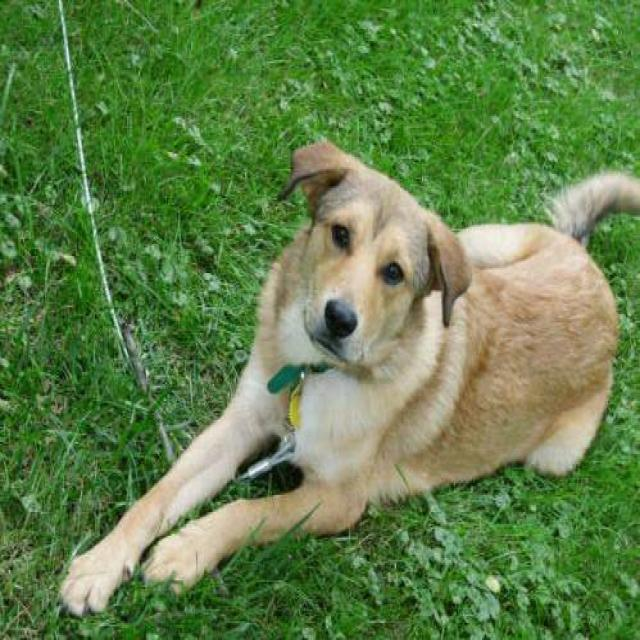dog: (57, 136, 638, 620)
